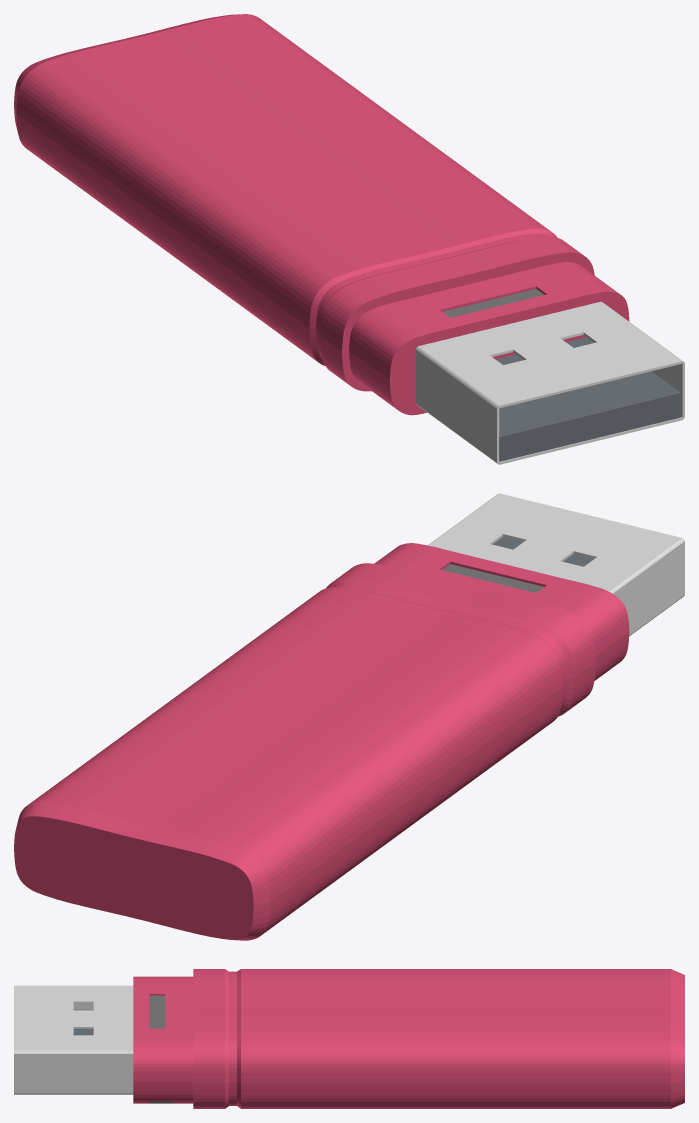
File: Thumb Drive.gltf
3 renders of one model, top to bottom at view 1: azimuth 30°, elevation 25°; view 2: azimuth 150°, elevation 25°; view 3: azimuth 270°, elevation 25°, orthographic. The views are drawn at different scales.
Visible parts, largest first — view 1: node-0; view 2: node-0; view 3: node-0.
Boxes of the visible parts, <box> form: node-0: <box>14,14,684,464</box>; node-0: <box>14,493,684,940</box>; node-0: <box>14,969,684,1108</box>.
Size of the model in its own units: 122 by 43.98 by 380.
